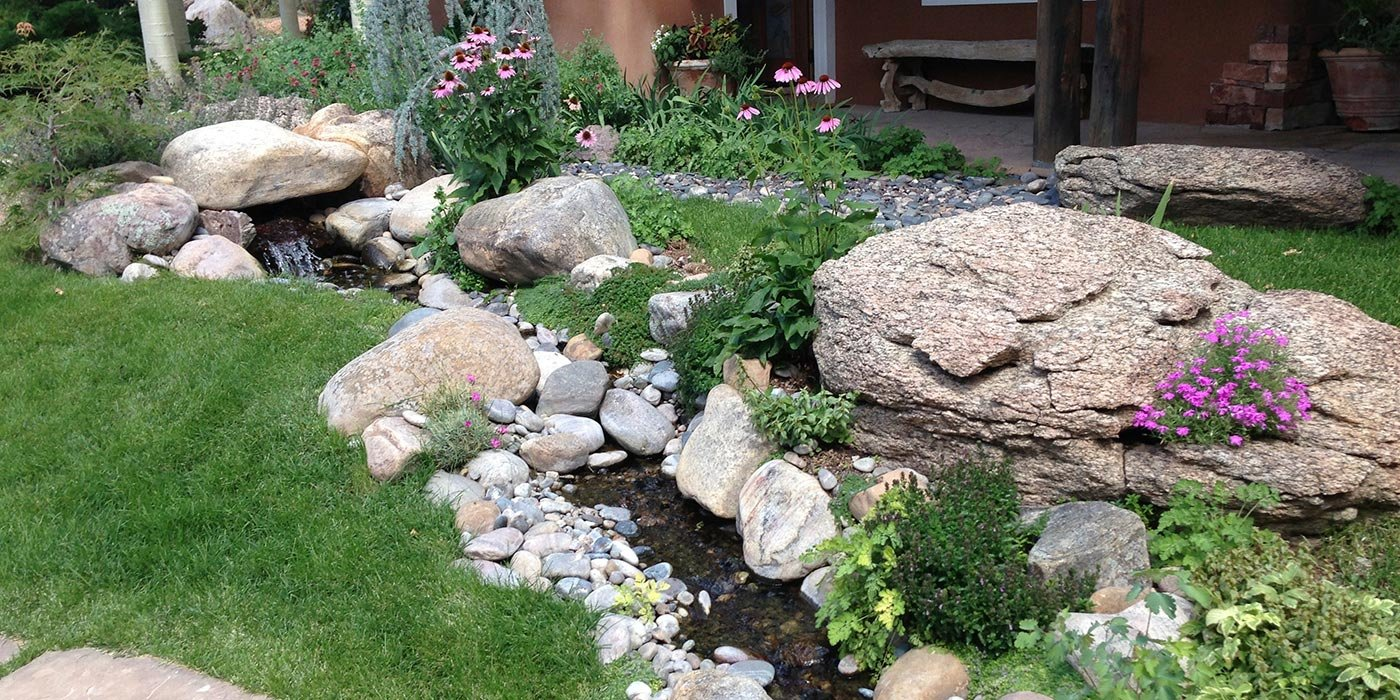dirt: (561, 472, 867, 689)
grass: (13, 276, 390, 698), (398, 492, 646, 696)
rock: (818, 196, 1396, 516), (44, 96, 431, 287), (446, 492, 763, 698), (317, 310, 541, 484), (684, 382, 849, 598), (1059, 145, 1378, 234), (453, 171, 659, 290), (543, 341, 676, 474), (1012, 499, 1152, 610)
